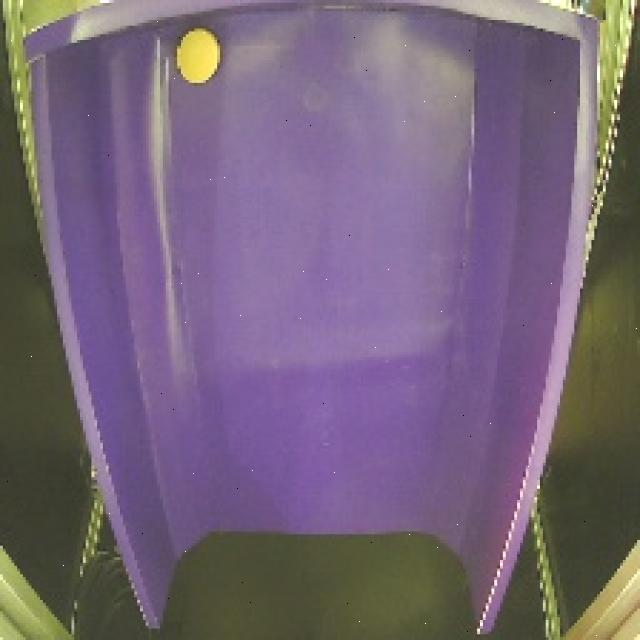small: (169, 26, 224, 87)
